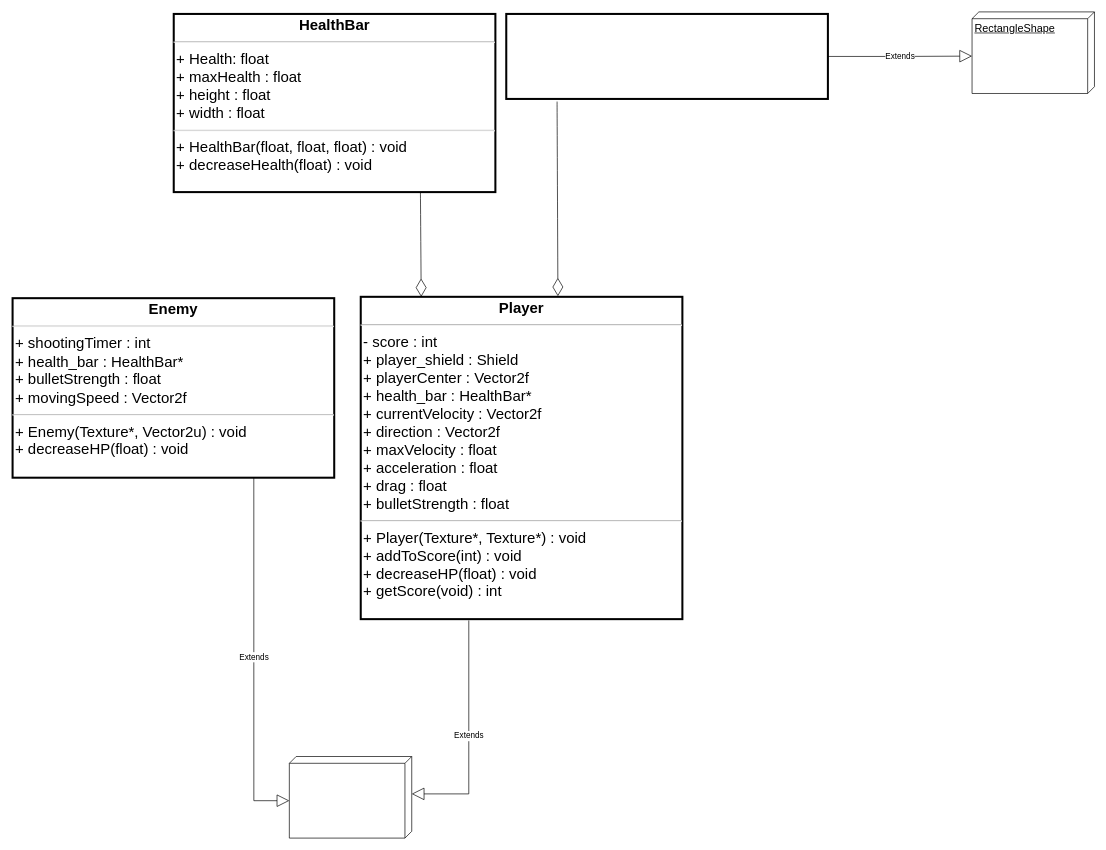
Image size: 1106x850. Some labels were removed from this diagram. Here are the shapes that lost their labels. From the top down, the centre of each, then its label:
At [667,56]: "Shield + isShieldActice : bool".
At [350,797]: "Sprite".
